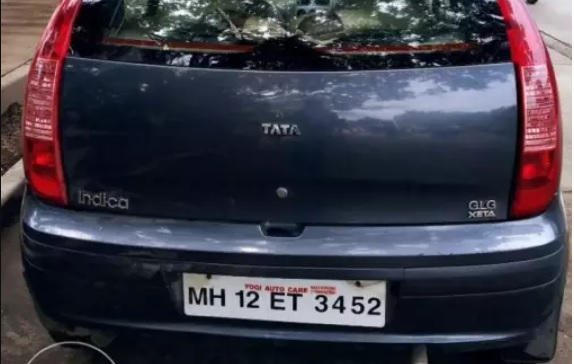licenseplate: (179, 267, 391, 331)
